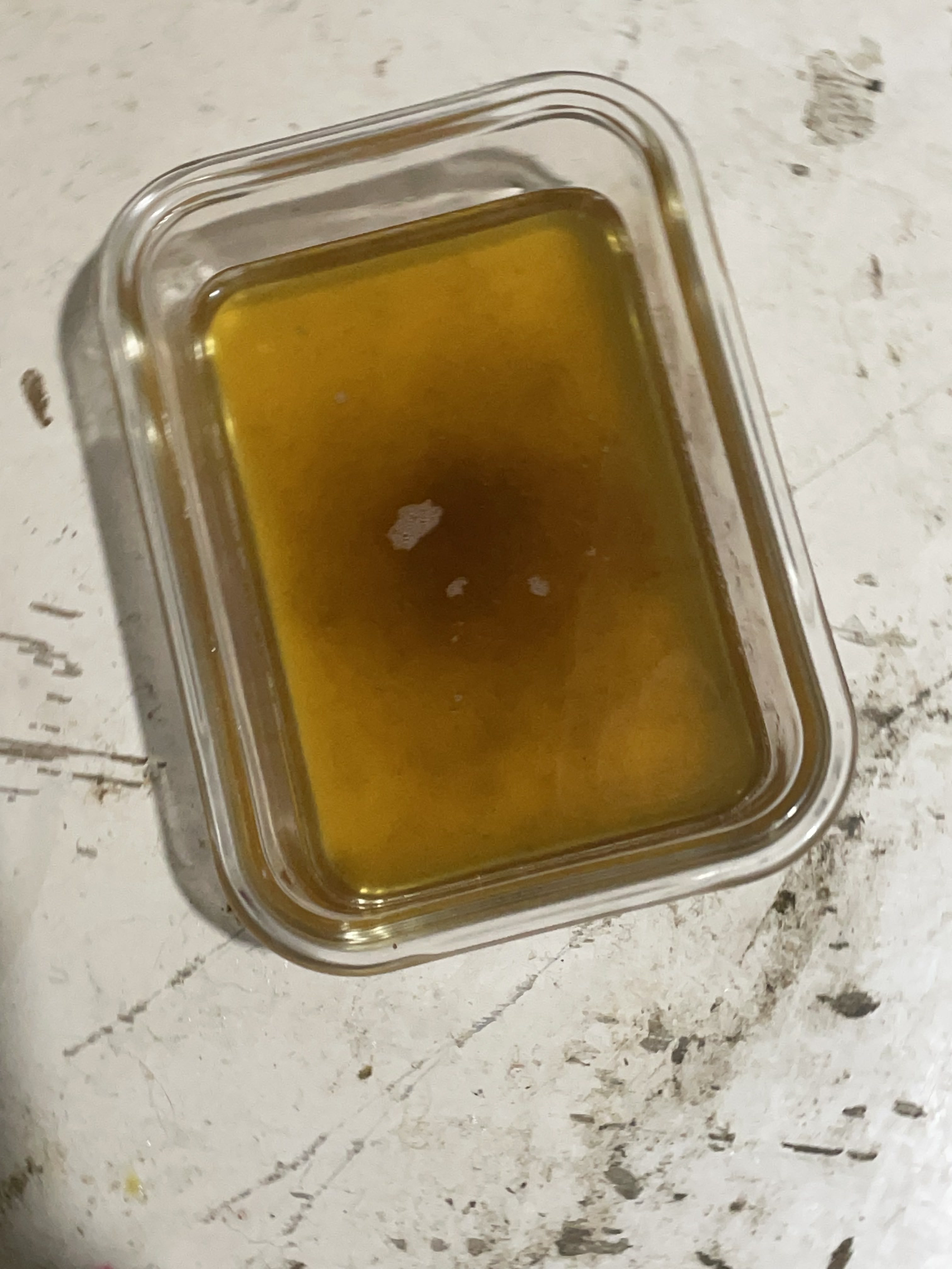reusable: (186, 179, 774, 900)
